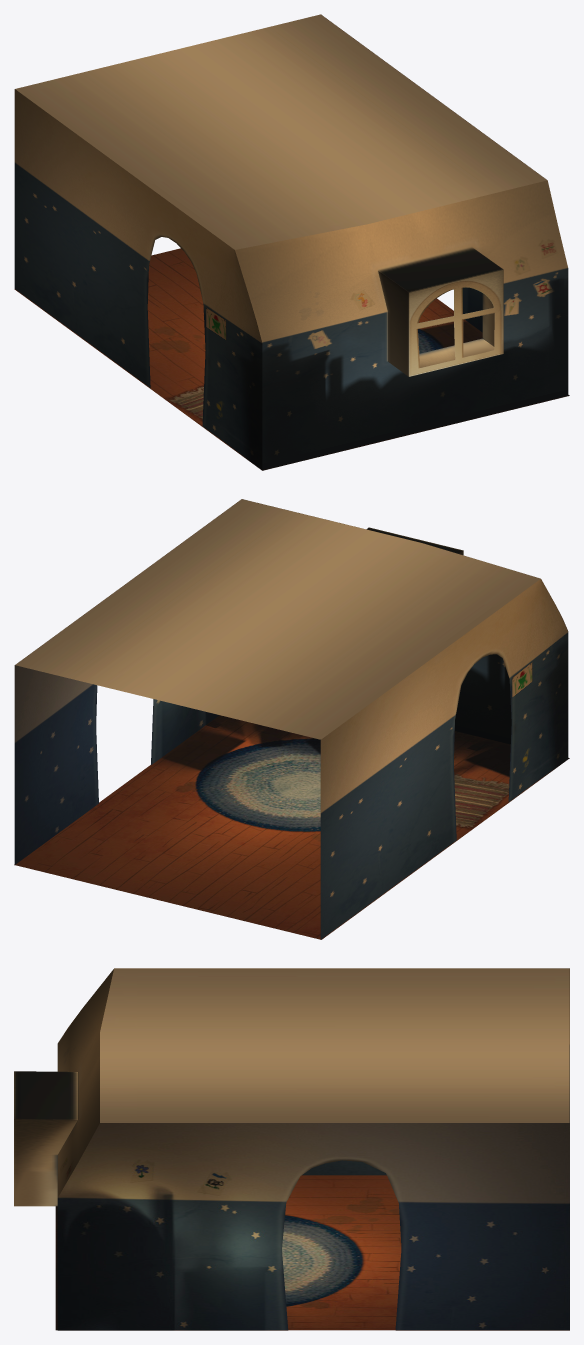
The model's file is bedroom_room.dae.
3 renders of one model, top to bottom at view 1: azimuth 30°, elevation 25°; view 2: azimuth 150°, elevation 25°; view 3: azimuth 270°, elevation 25°, orthographic. The views are drawn at different scales.
Visible parts, largest first — view 1: Ceiling, BackWall, RightWall, Floor, LeftWall_BedroomWallpaper; view 2: Ceiling, Floor, RightWall, LeftWall_BedroomWallpaper, BackWall; view 3: LeftWall_BedroomWallpaper, Ceiling, Floor, BackWall, RightWall.
Part boxes in pixels (bbox=[...]): Ceiling: bbox=[15, 14, 546, 249]; BackWall: bbox=[235, 180, 568, 469]; RightWall: bbox=[14, 89, 262, 469]; Floor: bbox=[14, 248, 569, 470]; LeftWall_BedroomWallpaper: bbox=[321, 14, 535, 332]; Ceiling: bbox=[15, 499, 540, 739]; Floor: bbox=[14, 715, 569, 939]; RightWall: bbox=[320, 579, 568, 939]; LeftWall_BedroomWallpaper: bbox=[14, 502, 237, 865]; BackWall: bbox=[242, 499, 511, 744]; LeftWall_BedroomWallpaper: bbox=[57, 1123, 569, 1330]; Ceiling: bbox=[100, 968, 569, 1122]; Floor: bbox=[55, 1175, 569, 1330]; BackWall: bbox=[14, 969, 113, 1206]; RightWall: bbox=[60, 968, 569, 1175].
Size of the model in its own units: 22.78 by 14.19 by 34.46.
5 materials, 5 textured.
